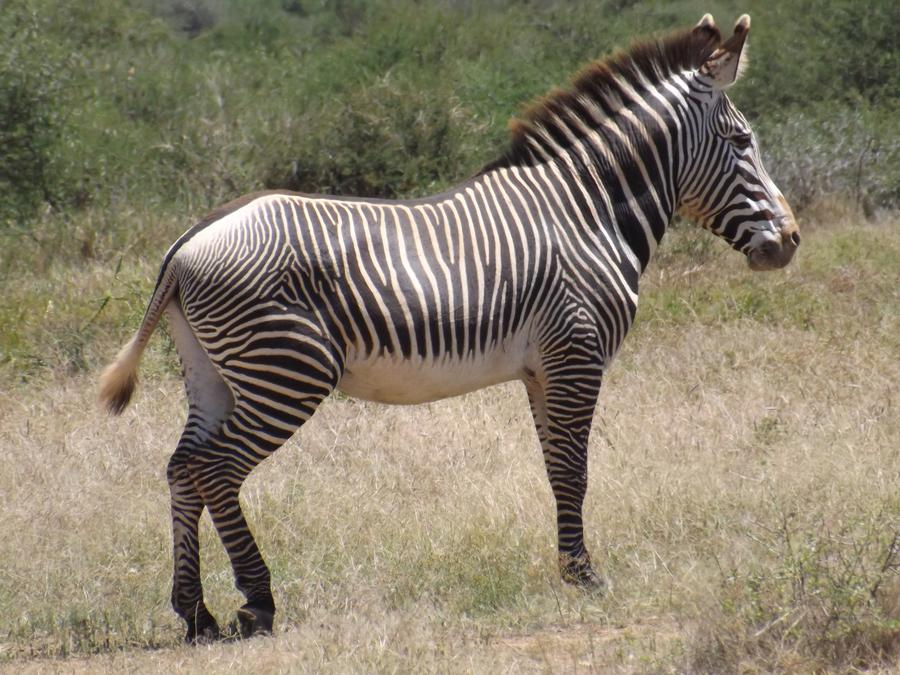zebra_grevys: (144, 166, 615, 377)
